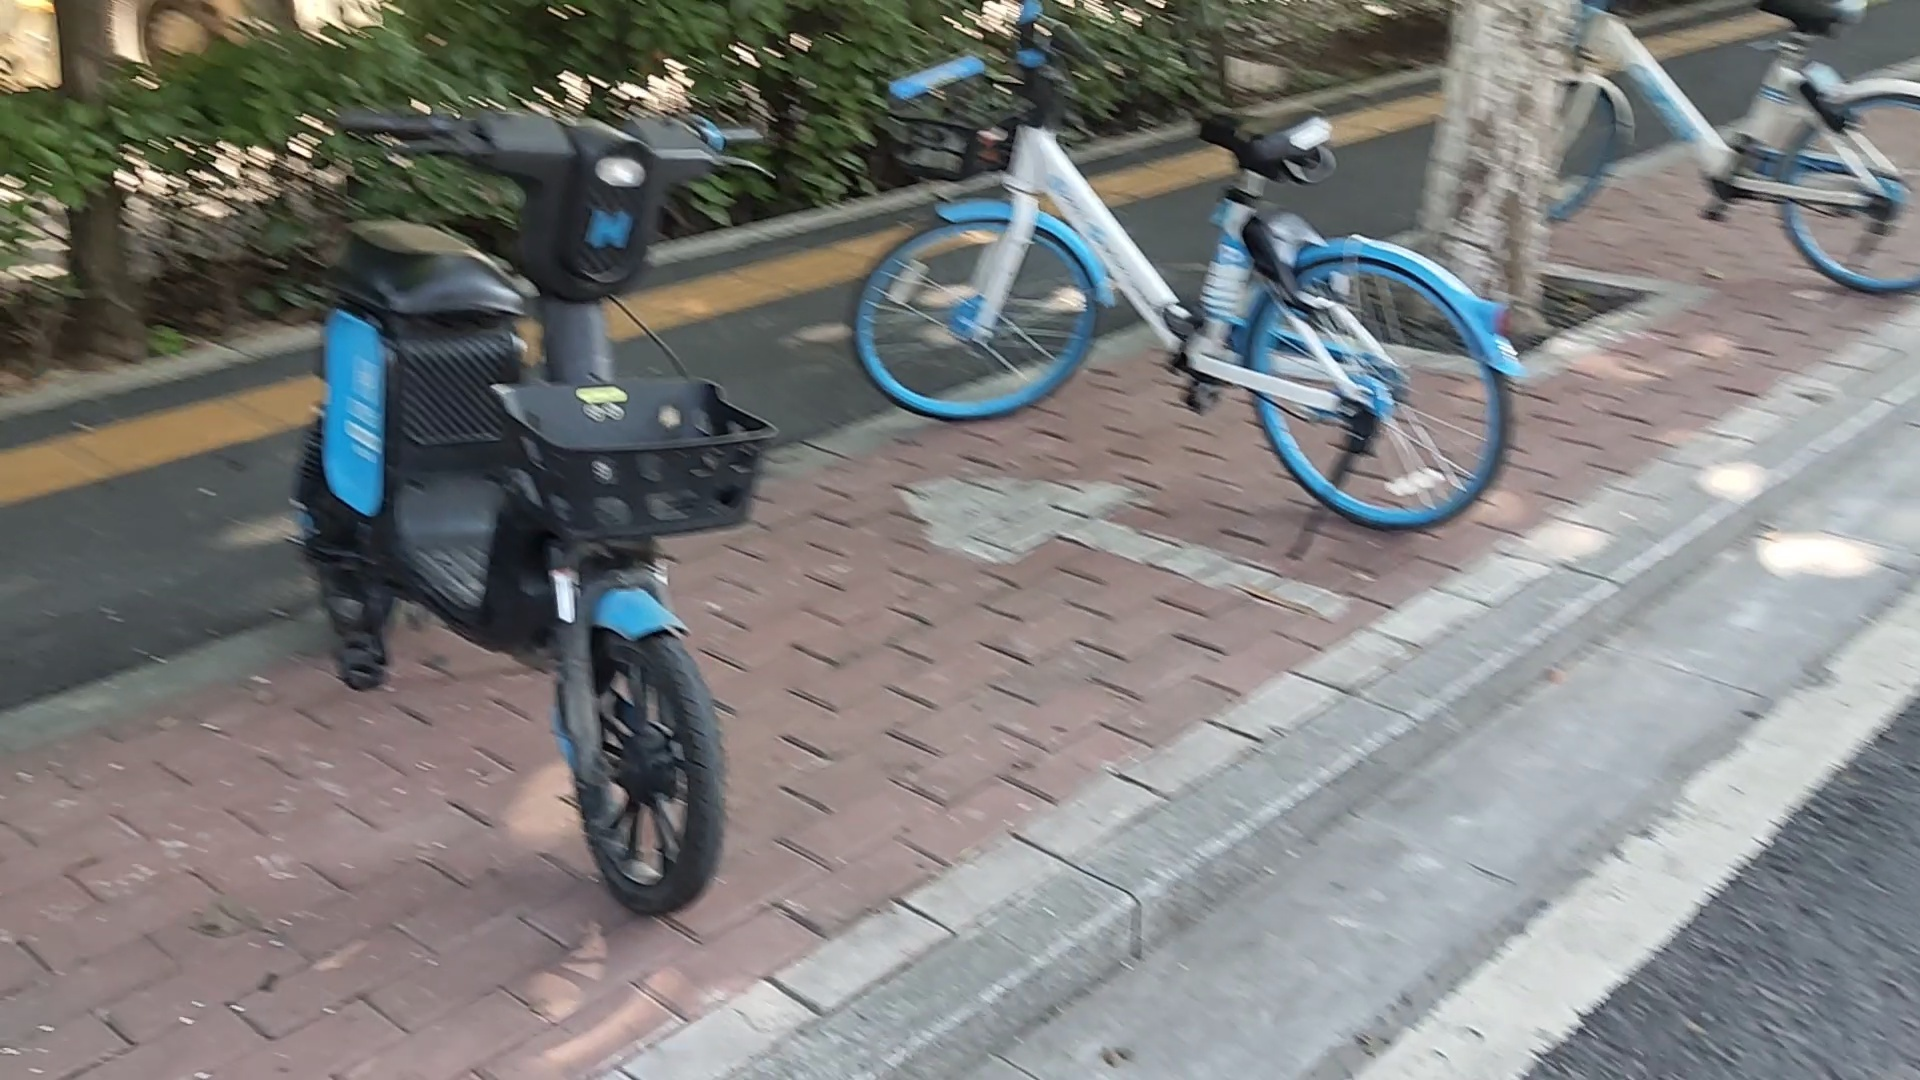non-vehicle: (282, 44, 785, 942), (843, 4, 1519, 531), (1387, 0, 1920, 306)
